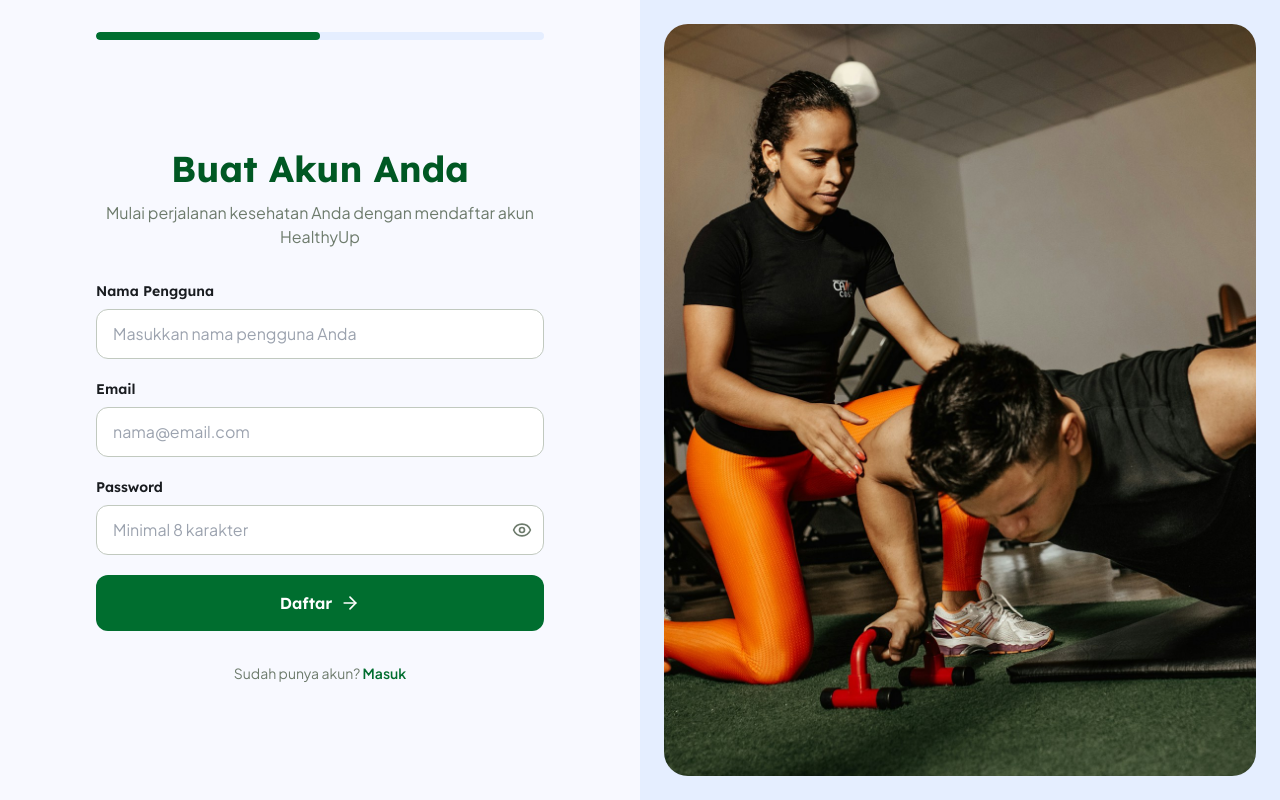
Test: Onboarding Page › menampilkan error nama terlalu pendek
Type "ab" into the field with placeholder "Masukkan nama pengguna Anda".
click(320, 334); type("ab")  # box 96,309 -> 544,359
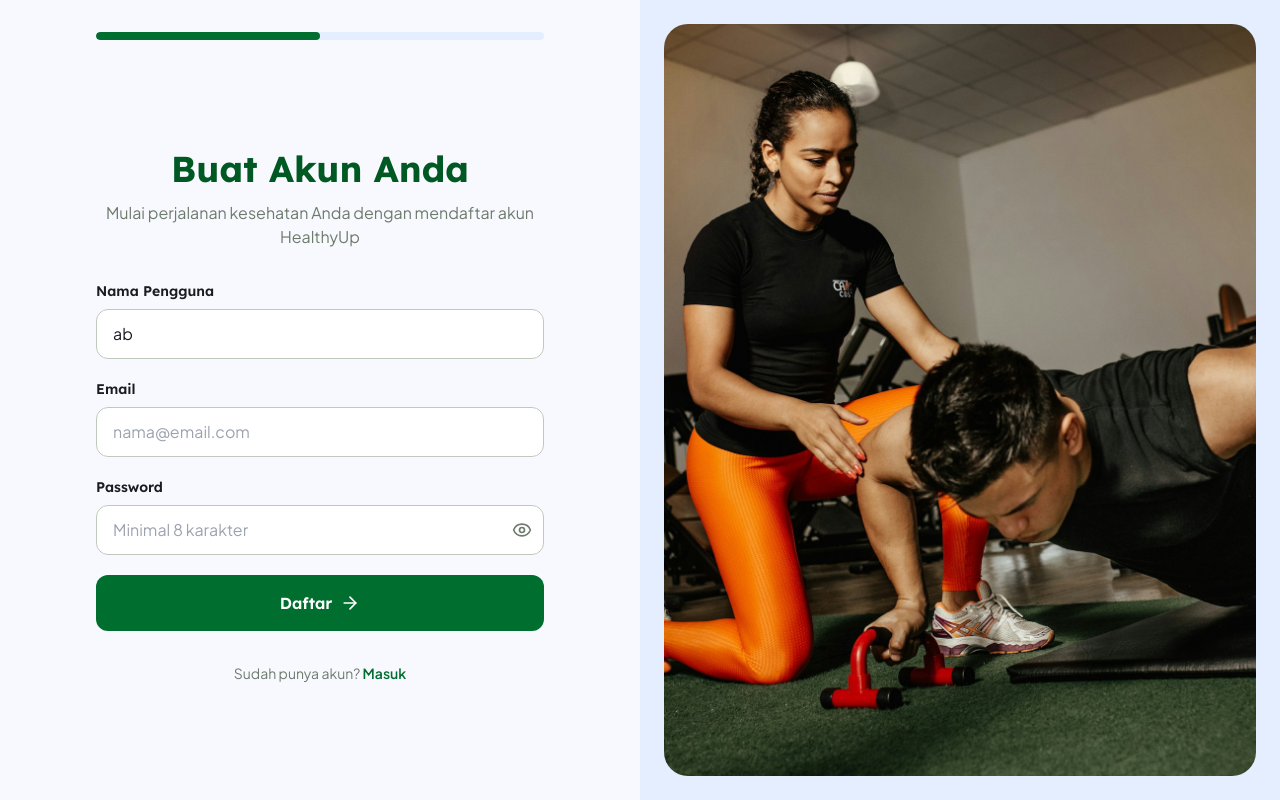
Click the button "Daftar".
click(320, 603)  # box 96,575 -> 544,631
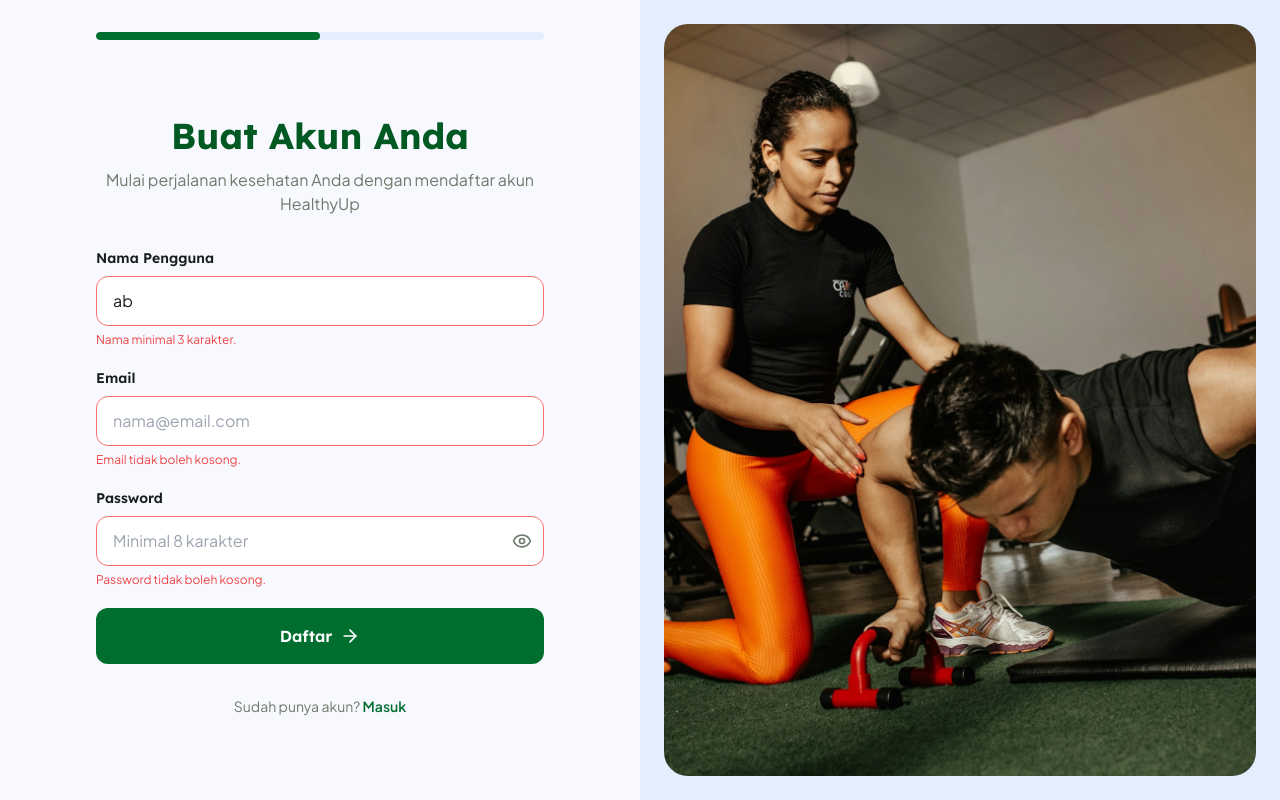
Result: the text "Nama minimal 3 karakter." is shown at 96,332 -> 236,347
